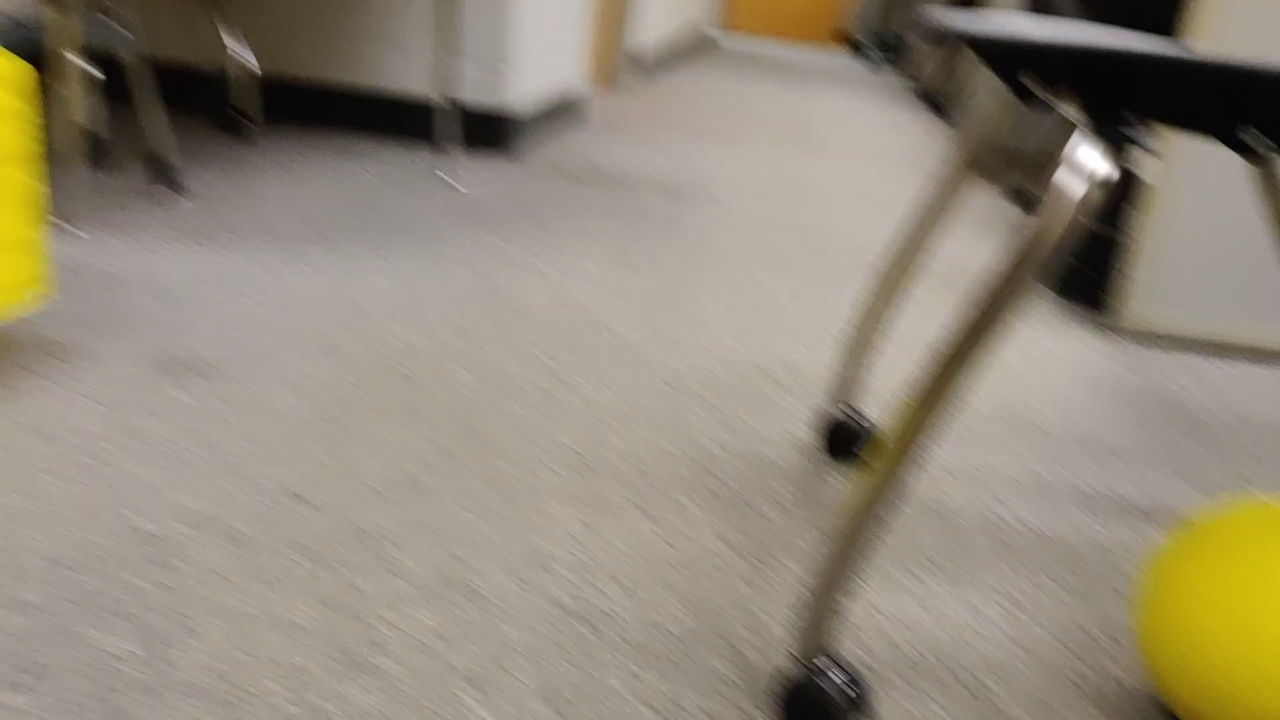Ball: (1124, 485, 1280, 695)
